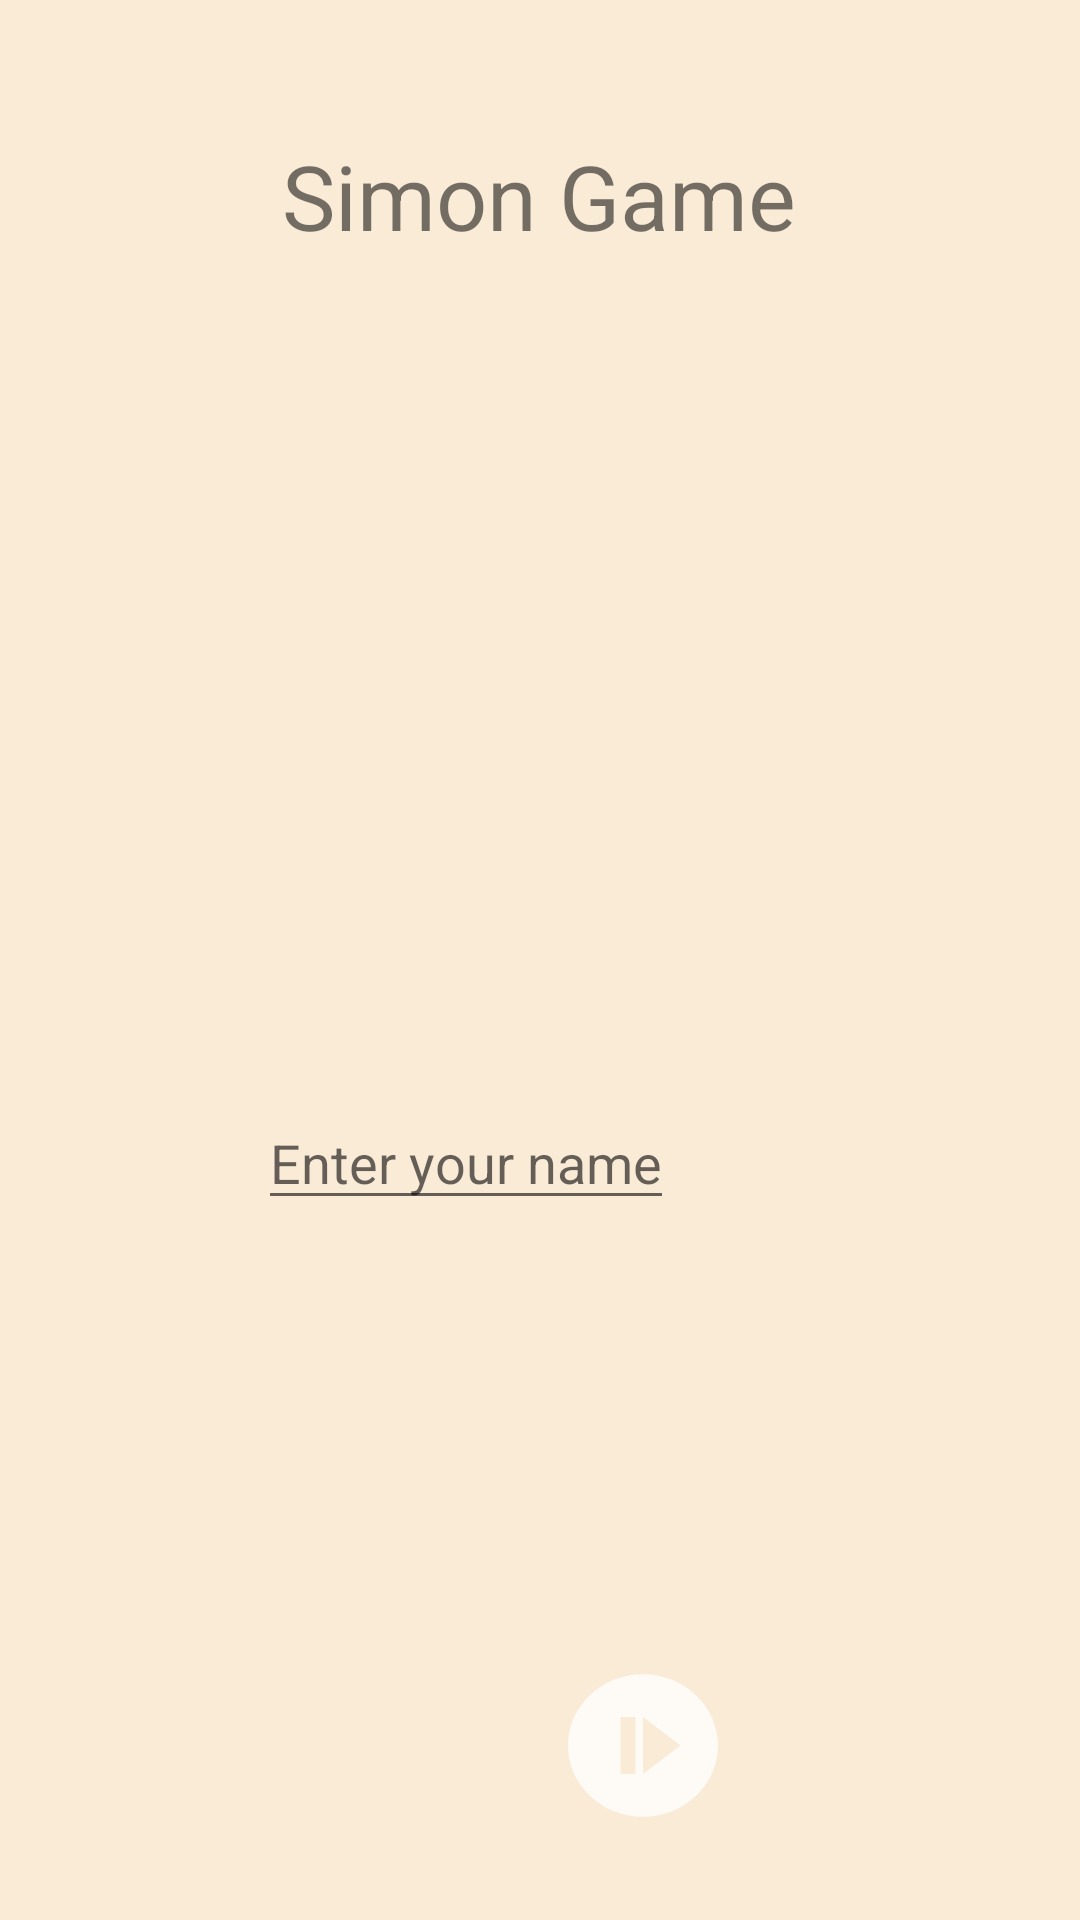

Named icons in this screenshot (1080 × 1920) and their bounding boxes, (x1, y1, x2, y2):
start: (568, 1675, 718, 1816)
